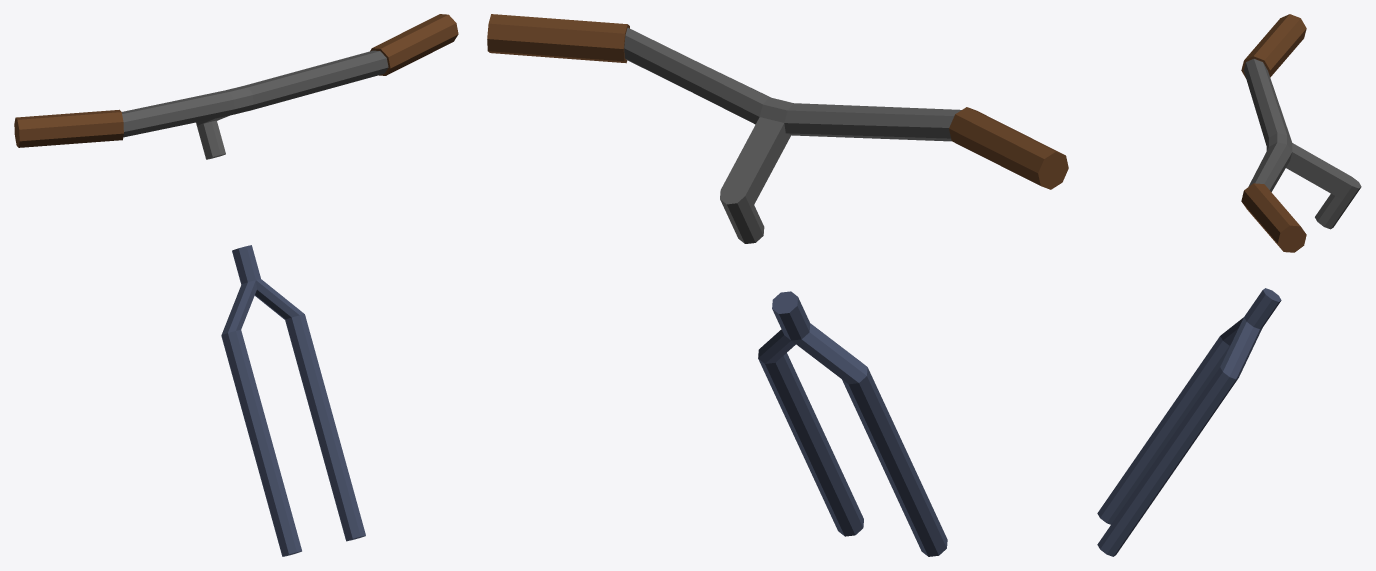
File: Steer.fbx
The picture shows the model from 3 angles, left to right: view 1: azimuth 30°, elevation 25°; view 2: azimuth 150°, elevation 25°; view 3: azimuth 270°, elevation 25°; orthographic projection. The views are drawn at different scales.
Parts seen in each view (by area): view 1: Steer; view 2: Steer; view 3: Steer.
Boxes of the visible parts, bbox=[...] form: Steer: bbox=[14, 14, 458, 556]; Steer: bbox=[487, 14, 1068, 556]; Steer: bbox=[1097, 14, 1361, 556].
Size of the model in its own units: 0.9123 by 0.8294 by 0.4733.
